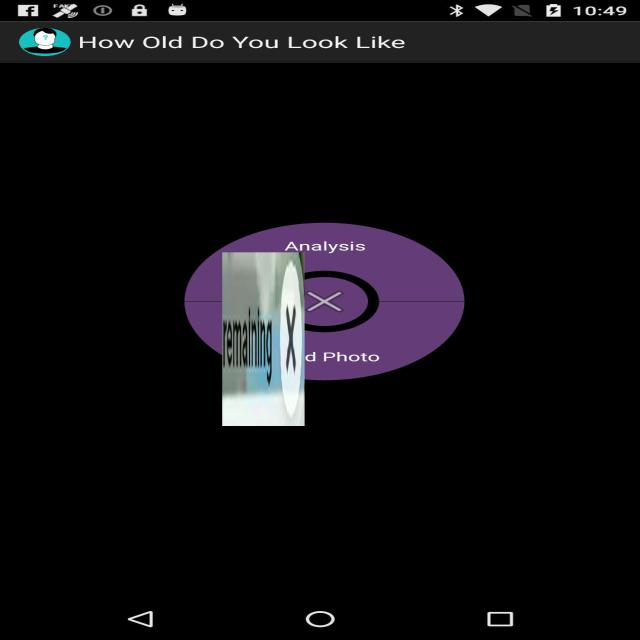misdirection: (222, 252, 305, 426)
